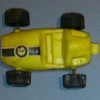amarillo: (1, 14, 98, 85)
